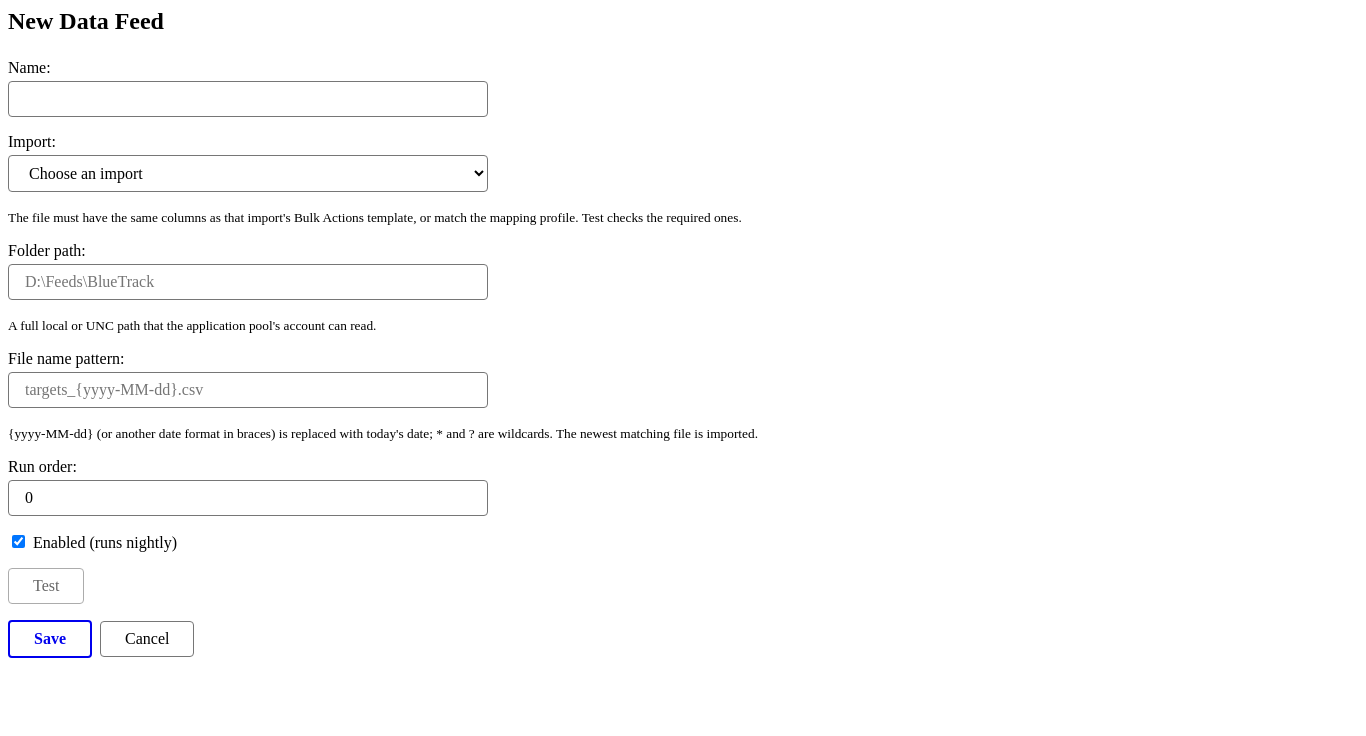
Test: DataFeedEdit.vue source system (D-212) › Enter in the name box does the same
The width and height of the screenshot is (1366, 736).
Step 1. Select "Account inventory" in the dropdown labelled "Import:" → (248, 174), box [8,155,488,192]
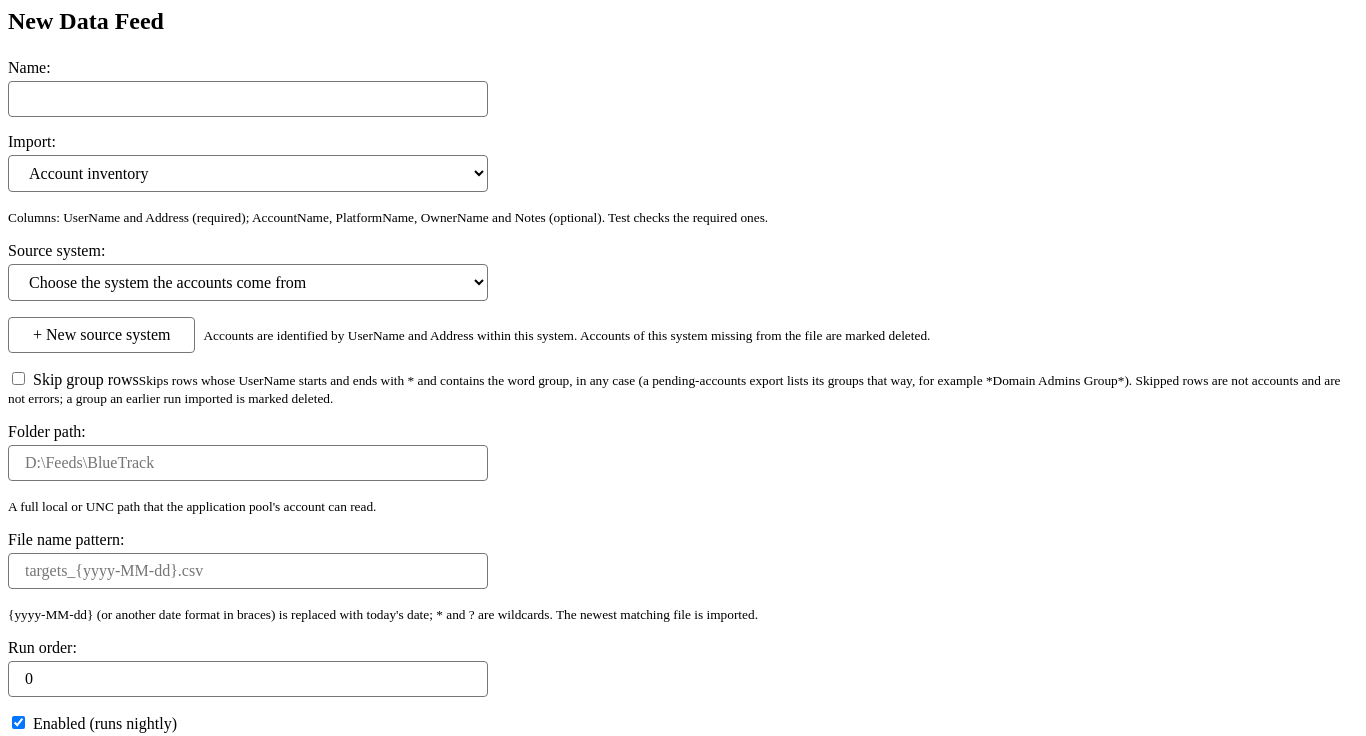
Step 2. Click the button "+ New source system" → (102, 335), box [8,317,195,353]
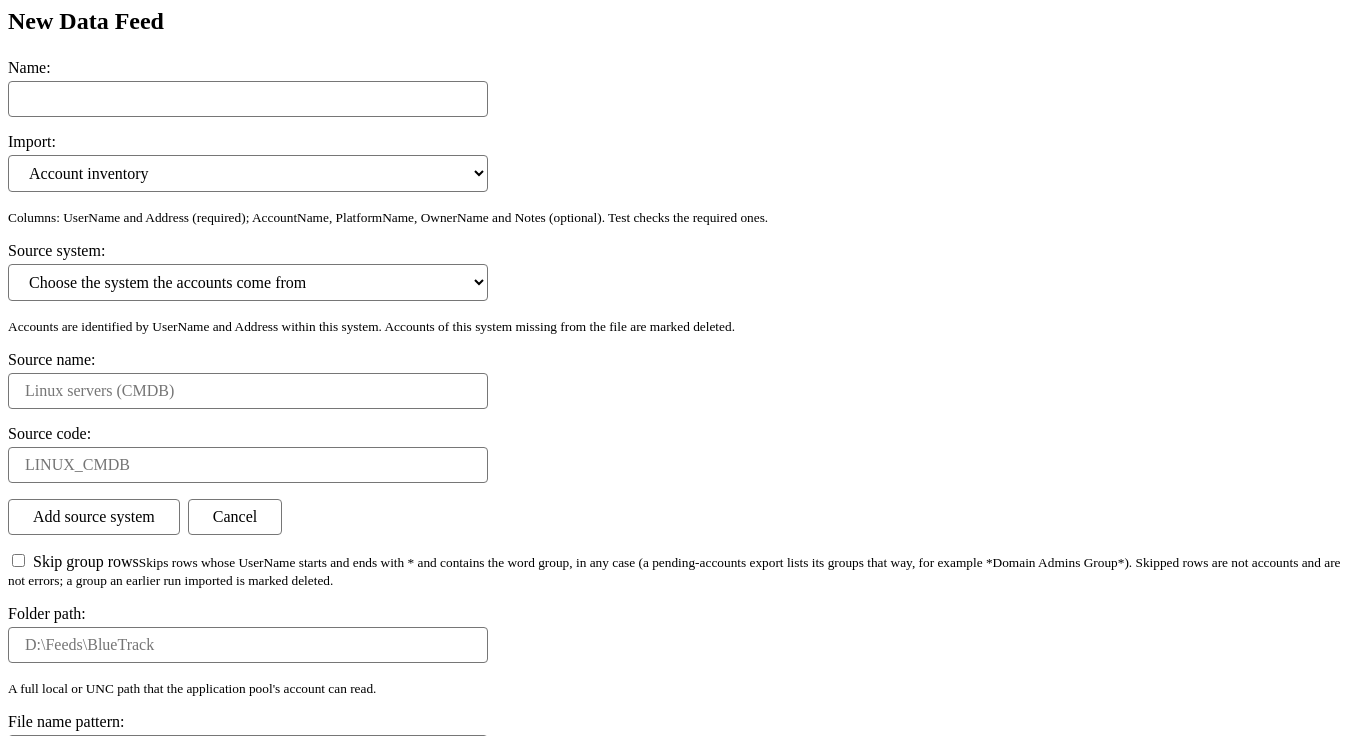
Step 3. Press Enter in the field labelled "Source name:", box [8,373,488,409]
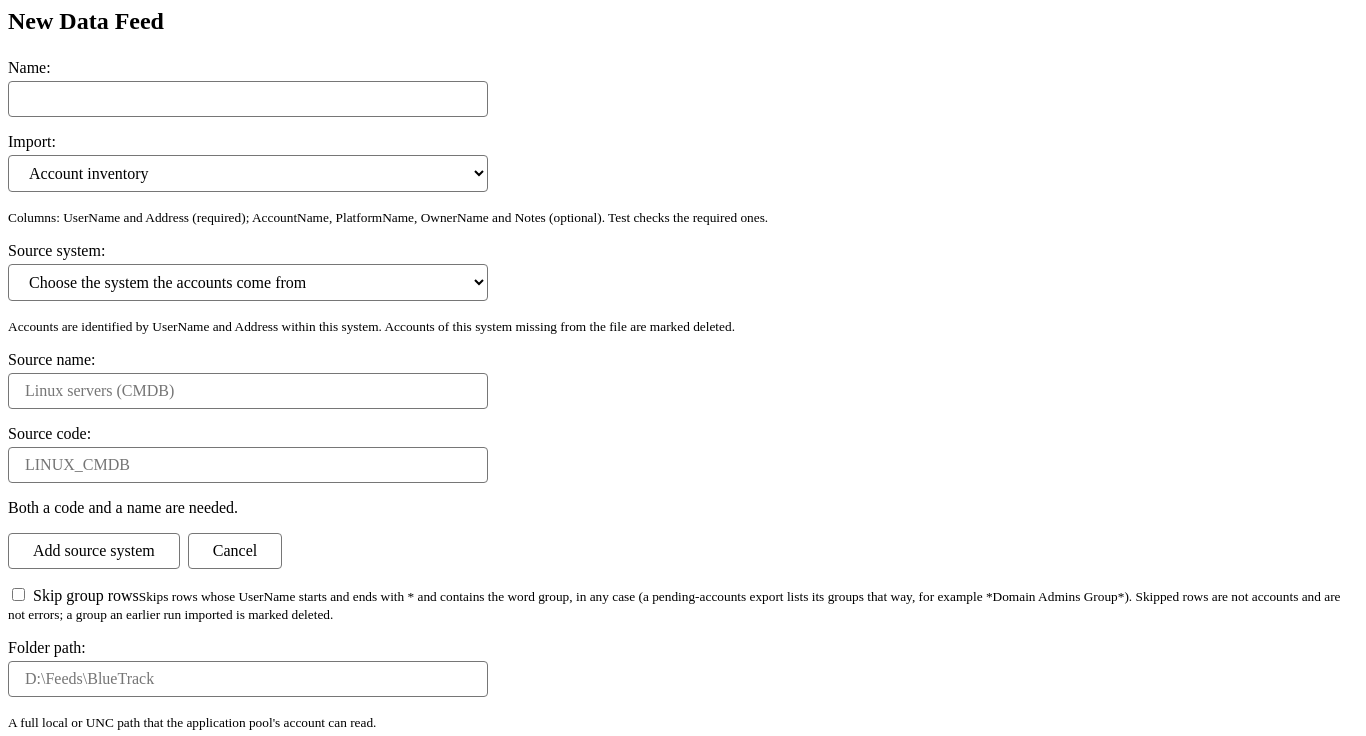
Result: the message "Both a code and a name are needed." is shown at [8,499,238,516]
